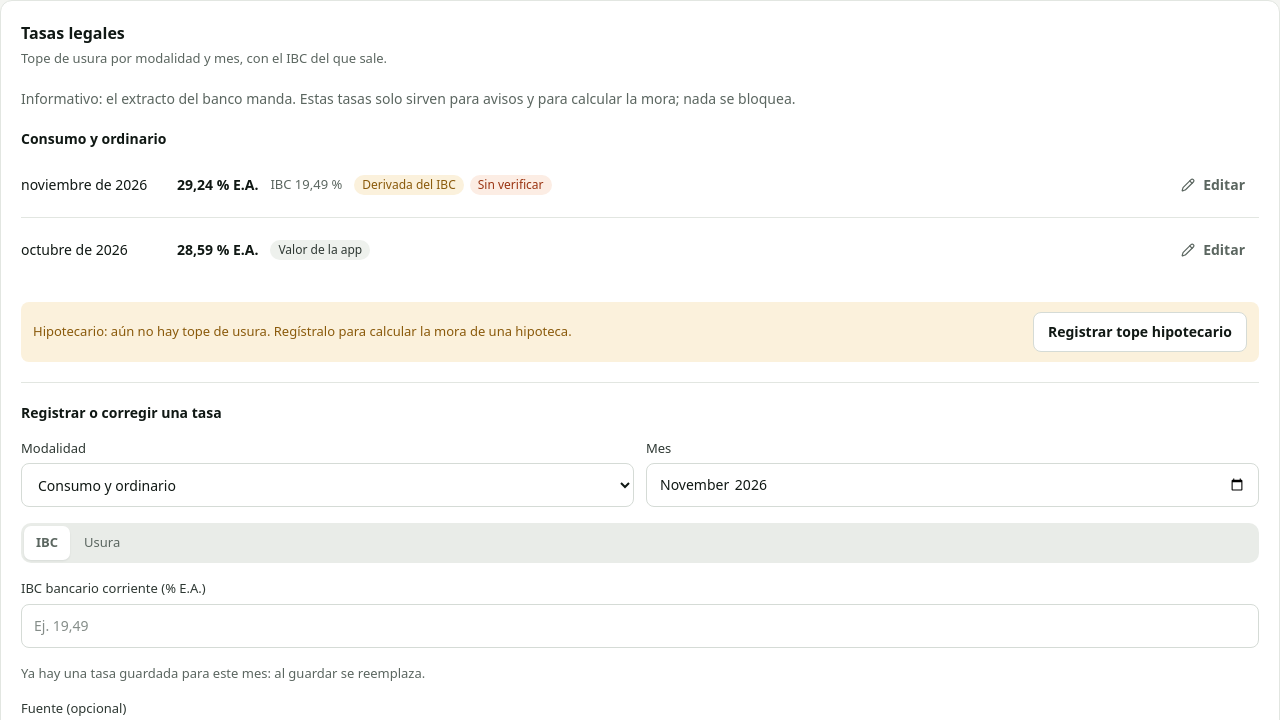
Test: LegalRatesPanel listing › asks for a mortgage usury until one is entered, and opens the form for it
Expected: the text "Hipotecario: aún no hay tope de usura" is shown, [33, 322, 572, 340]
Click the button "Registrar tope hipotecario" at [1140, 332], box [1033, 312, 1247, 352]
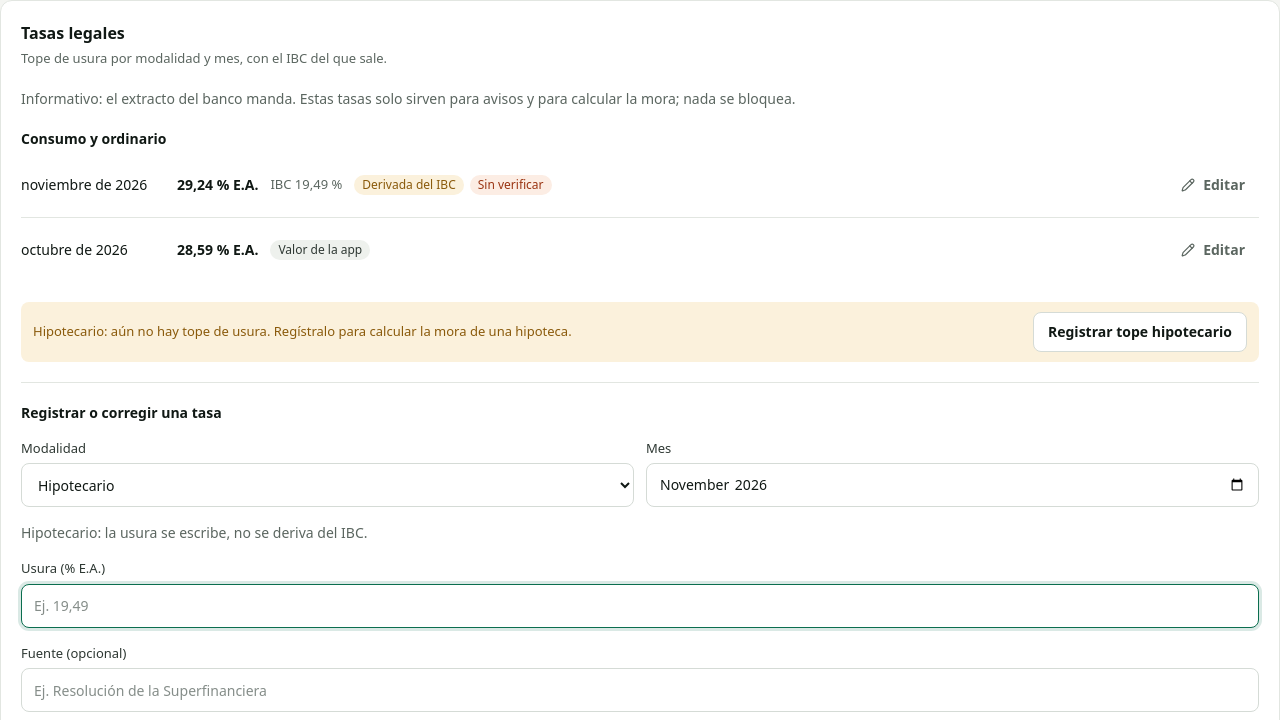
Result: the dropdown labelled "Modalidad" shows "Hipotecario" at [21, 463, 634, 507]
